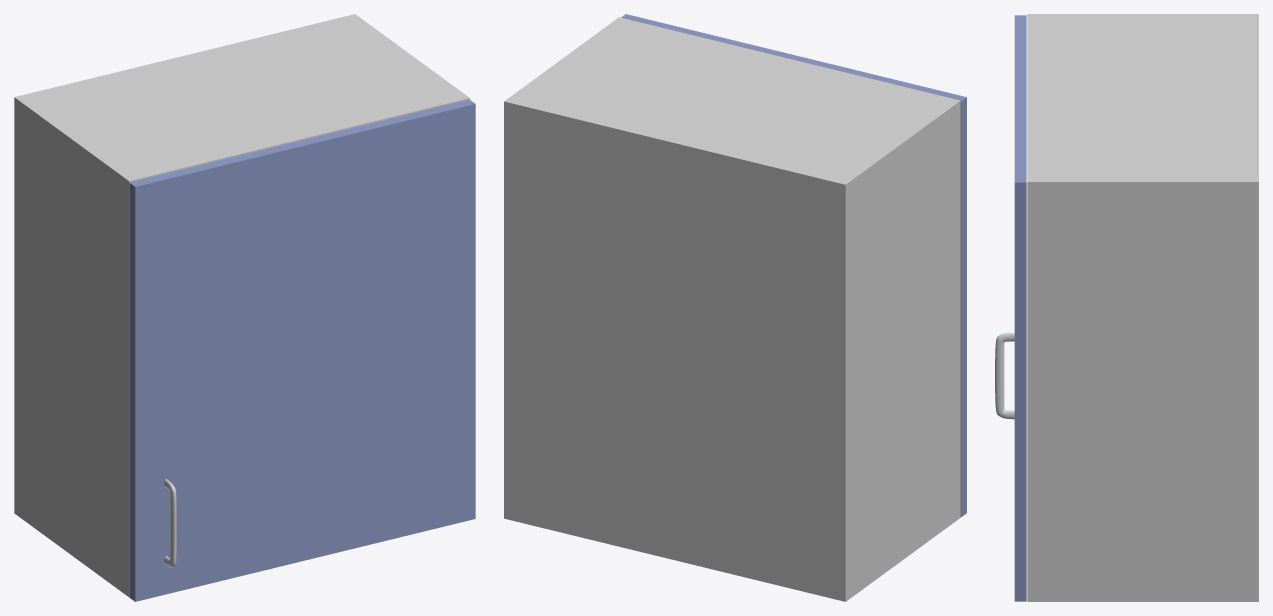
File: KitchenCabinets 2.fbx
3 renders of one model, left to right at view 1: azimuth 30°, elevation 25°; view 2: azimuth 150°, elevation 25°; view 3: azimuth 270°, elevation 25°, orthographic.
Visible parts, largest first — view 1: Cabinet1_Door, Cabinet1, Handle; view 2: Cabinet1, Cabinet1_Door; view 3: Cabinet1, Cabinet1_Door, Handle.
Part boxes in pixels (x1=…): Cabinet1_Door: x1=129, y1=99, x2=475, y2=601; Cabinet1: x1=14, y1=14, x2=469, y2=596; Handle: x1=164, y1=479, x2=176, y2=567; Cabinet1: x1=504, y1=17, x2=960, y2=601; Cabinet1_Door: x1=621, y1=14, x2=966, y2=517; Cabinet1: x1=1027, y1=14, x2=1258, y2=601; Cabinet1_Door: x1=1014, y1=15, x2=1026, y2=601; Handle: x1=995, y1=332, x2=1014, y2=419.
Bounding box in the file's own units: 60 × 70 × 39.86.
